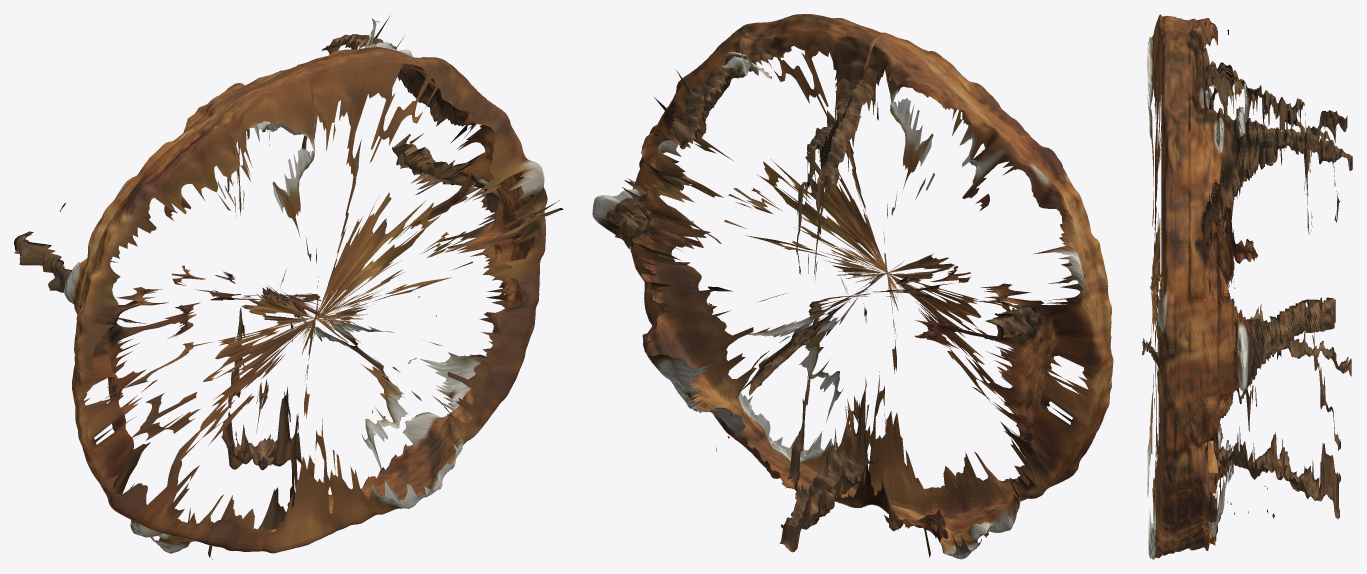
3 renders of one model, left to right at view 1: azimuth 30°, elevation 25°; view 2: azimuth 150°, elevation 25°; view 3: azimuth 270°, elevation 25°, orthographic. The views are drawn at different scales.
Parts seen in each view (by area): view 1: geometry_0; view 2: geometry_0; view 3: geometry_0.
Part boxes in pixels (<box>): geometry_0: <box>14,16,563,559</box>; geometry_0: <box>592,14,1113,559</box>; geometry_0: <box>1142,14,1352,559</box>.
Size of the model in its own units: 1.91 by 1.86 by 0.6839.
1 material, 1 textured.
